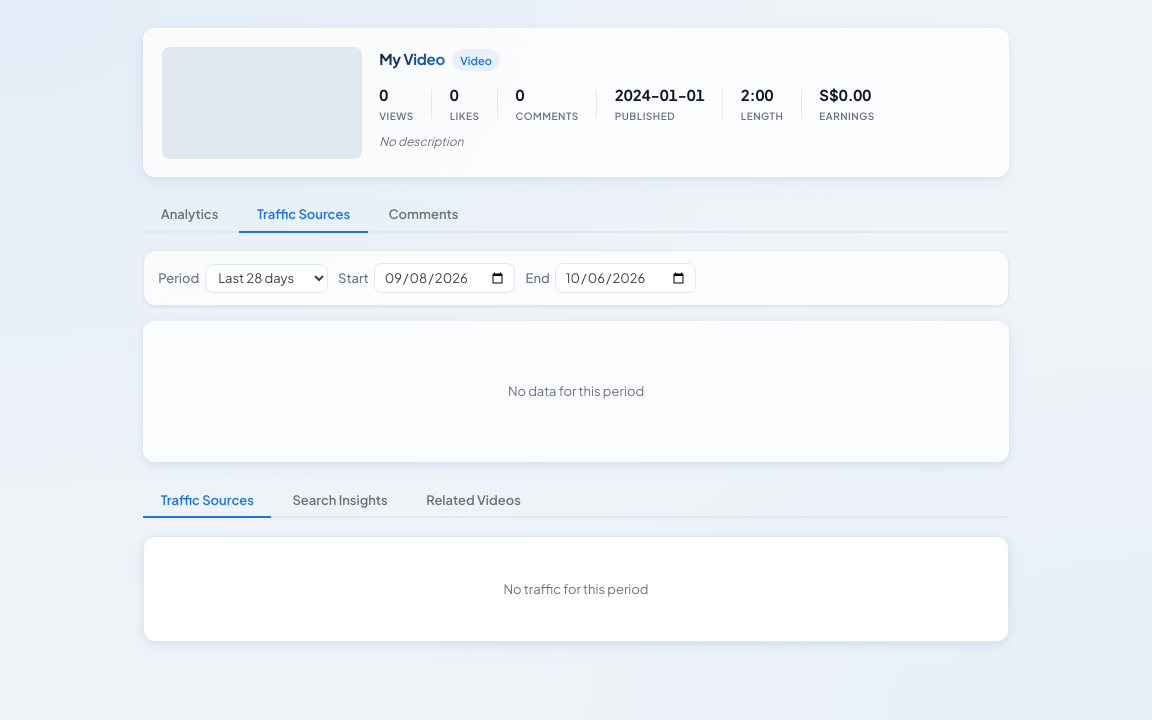
Test case: Traffic Sources sub-tabs (Search Insights) › defaults to the Traffic Sources sub-tab, switching to Search Insights renders the single donut card
expect the text "Top Search Terms" is not shown: met
Step 1. Click the button "Search Insights" → (340, 501), box [275,483,405,518]
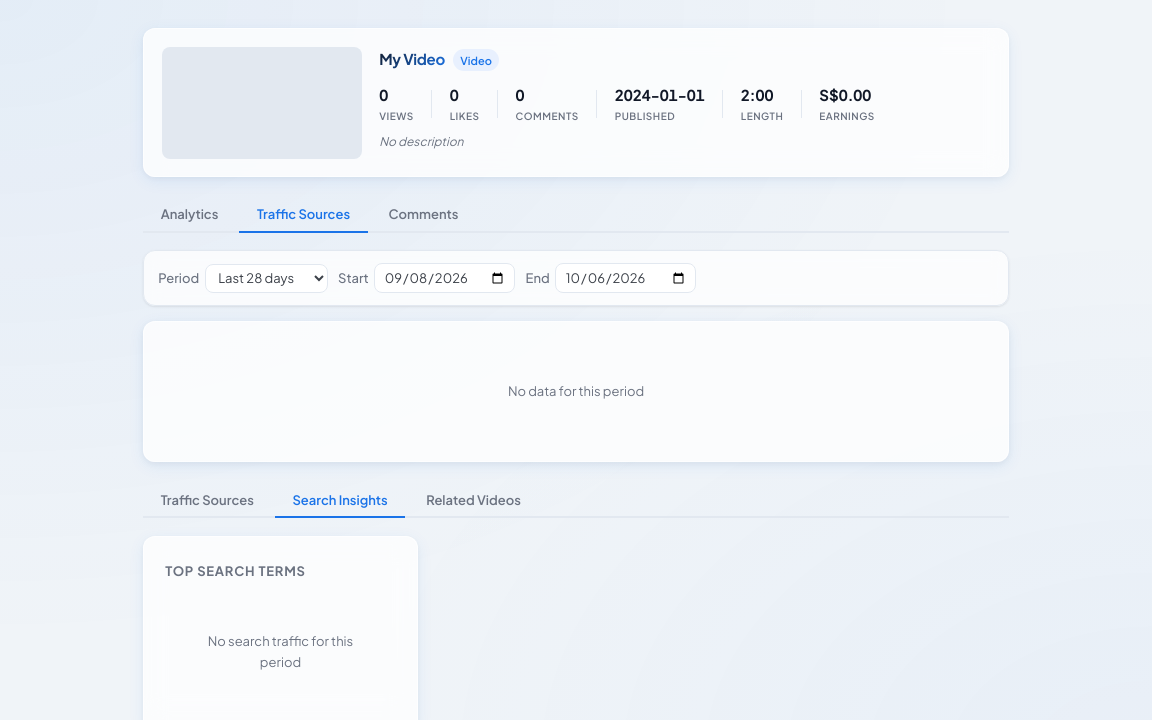
expect the text "Top Search Terms" is shown: met, box [165,563,306,579]
